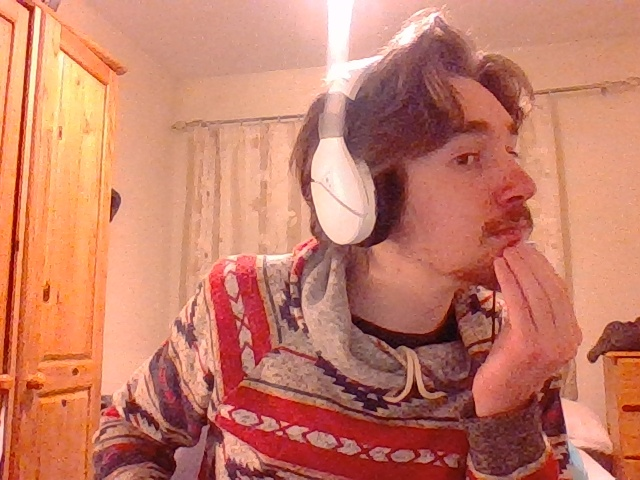thanks: (490, 243, 583, 406)
